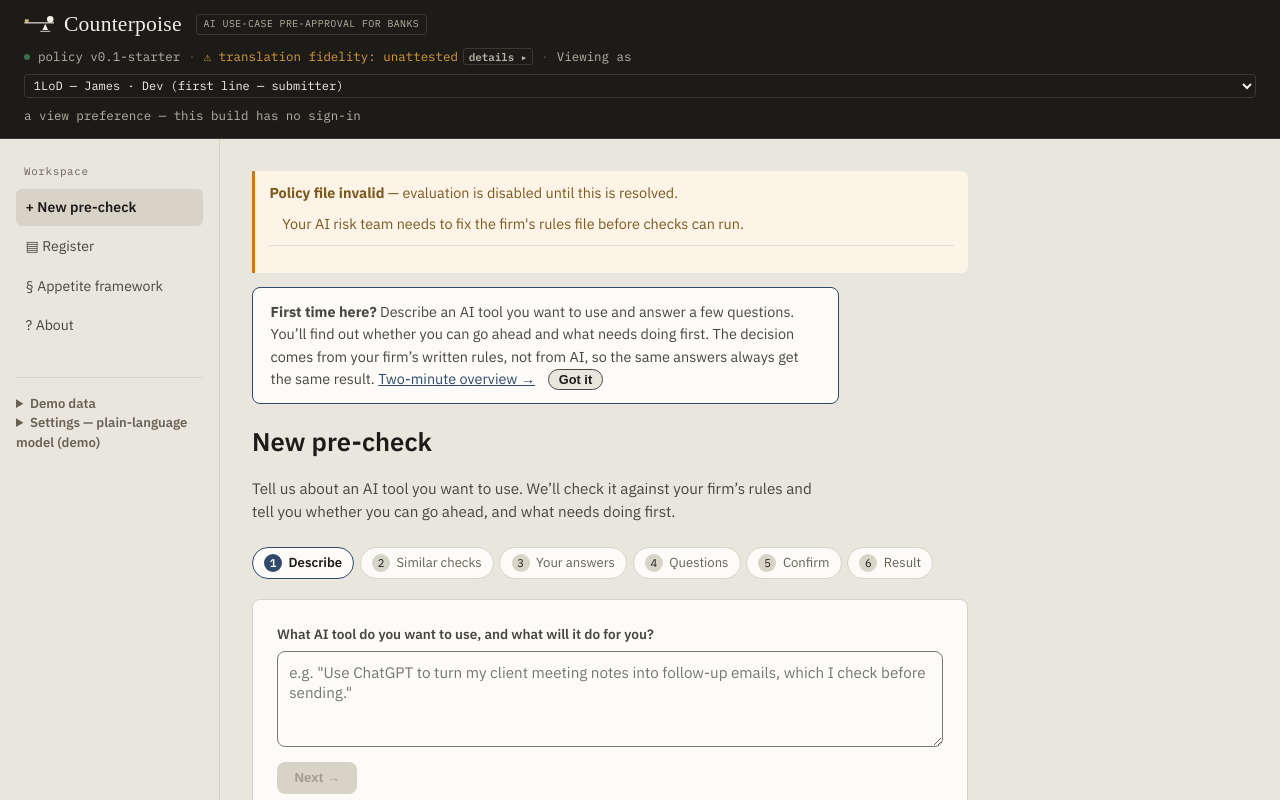
Test: App — 1LoD nav surface (R12-AD-2) › TC-R12-AD-2-02: 2LoD sees "Rule challenges" in the sidebar
Select "2LoD — Priya · AI Risk (second line — reviewer)" in the dropdown labelled "Viewing as" at (640, 86), box 24,74 -> 1256,98
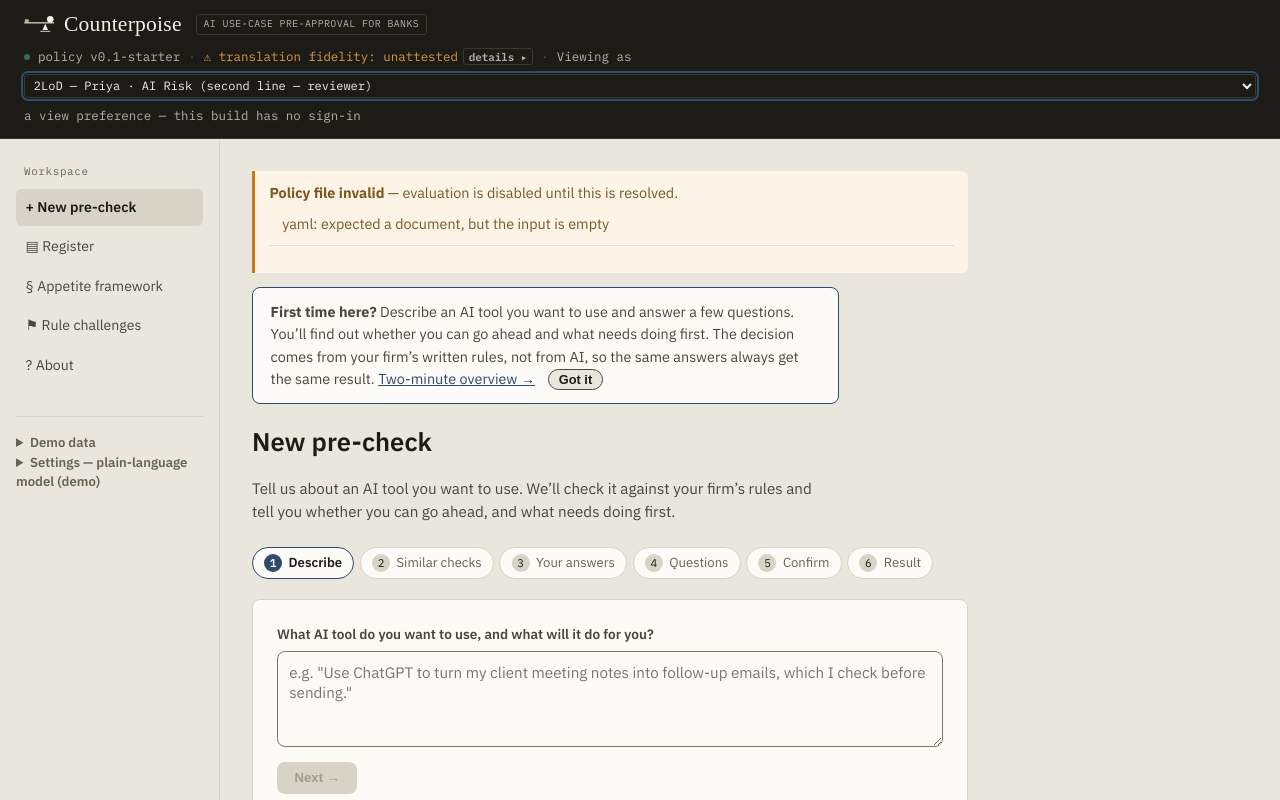
Now the button "⚑ Rule challenges" is shown, box 16,308 -> 203,345
